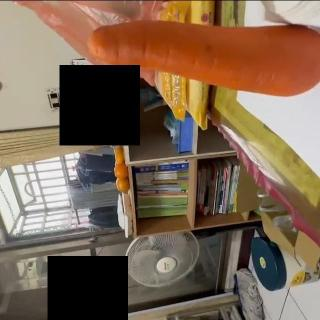carrot: (85, 20, 320, 96)
